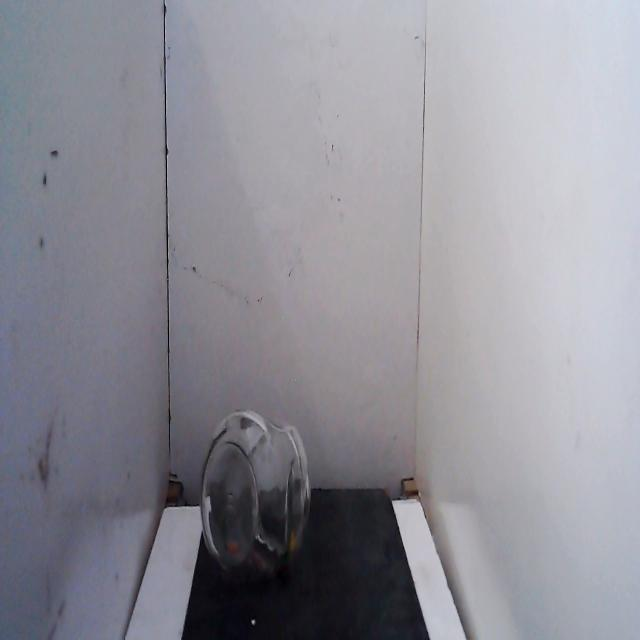glass: (192, 399, 317, 604)
